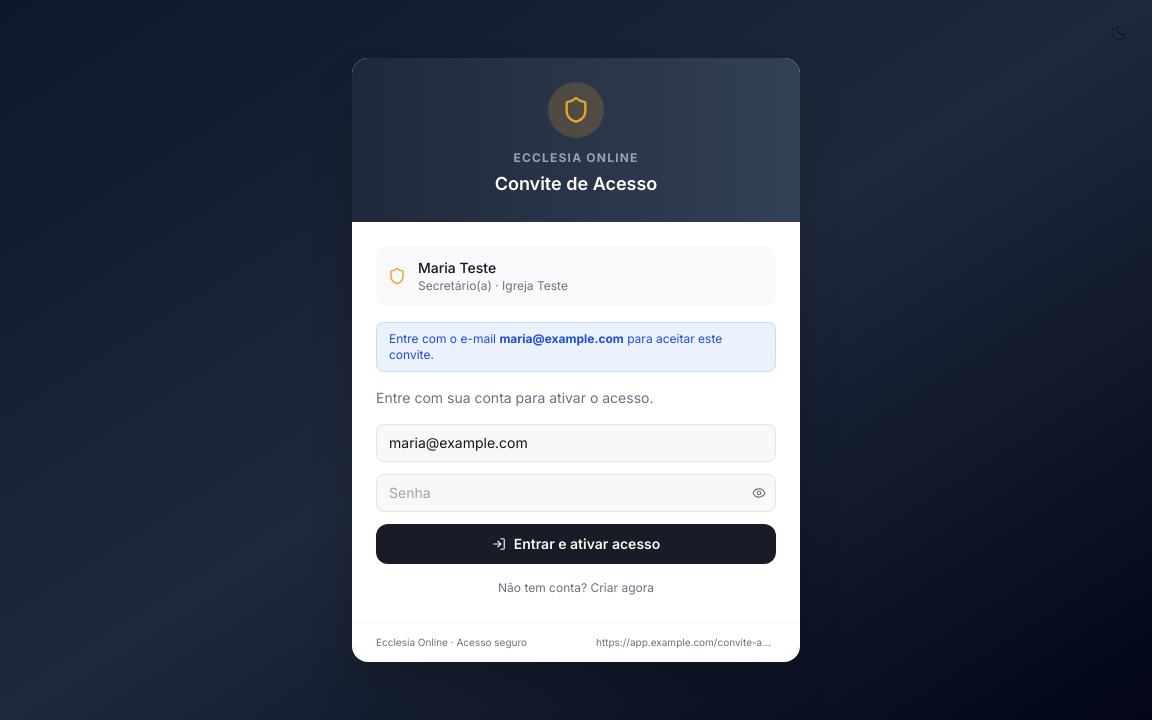
Scenario: ConviteAcesso — mailbox proof › sends a magic link to the fixed invite e-mail and never accepts before the click
This screenshot has width=1152, height=720.
Expected: the text "Maria Teste" is shown, [418,259,496,276]
Click the button "Não tem conta? Criar agora".
click(576, 588)  # box [376,580,776,596]
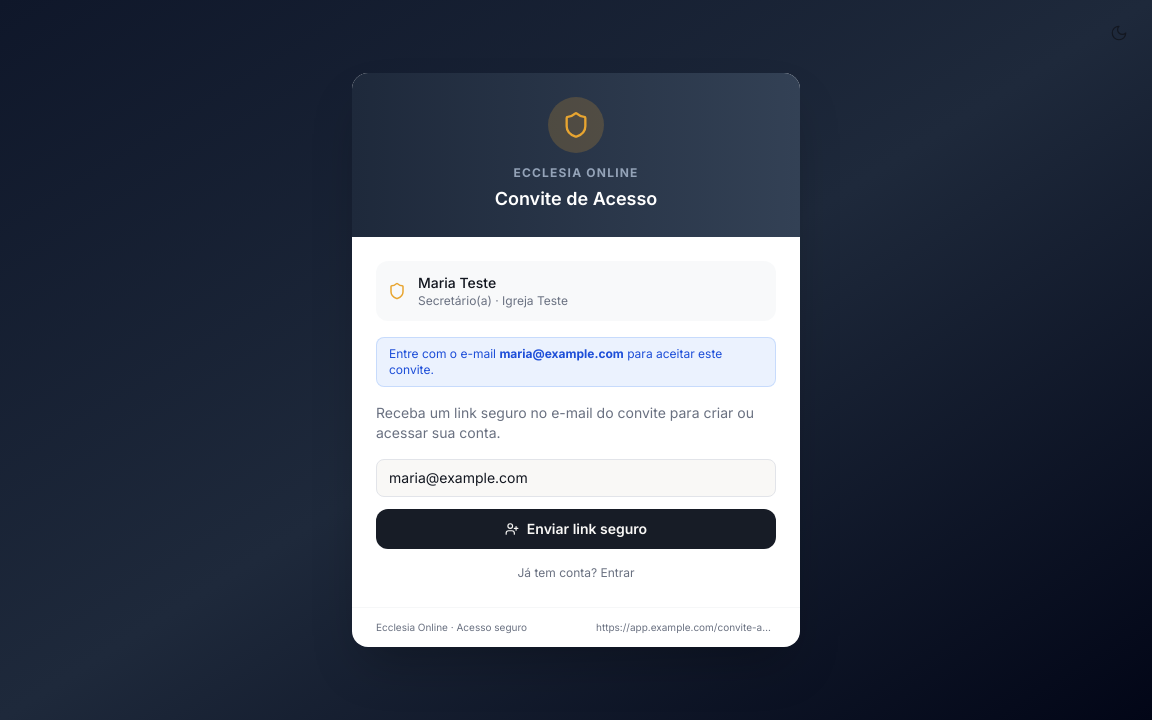
Click the button "Enviar link seguro".
click(576, 529)  # box [376,509,776,549]
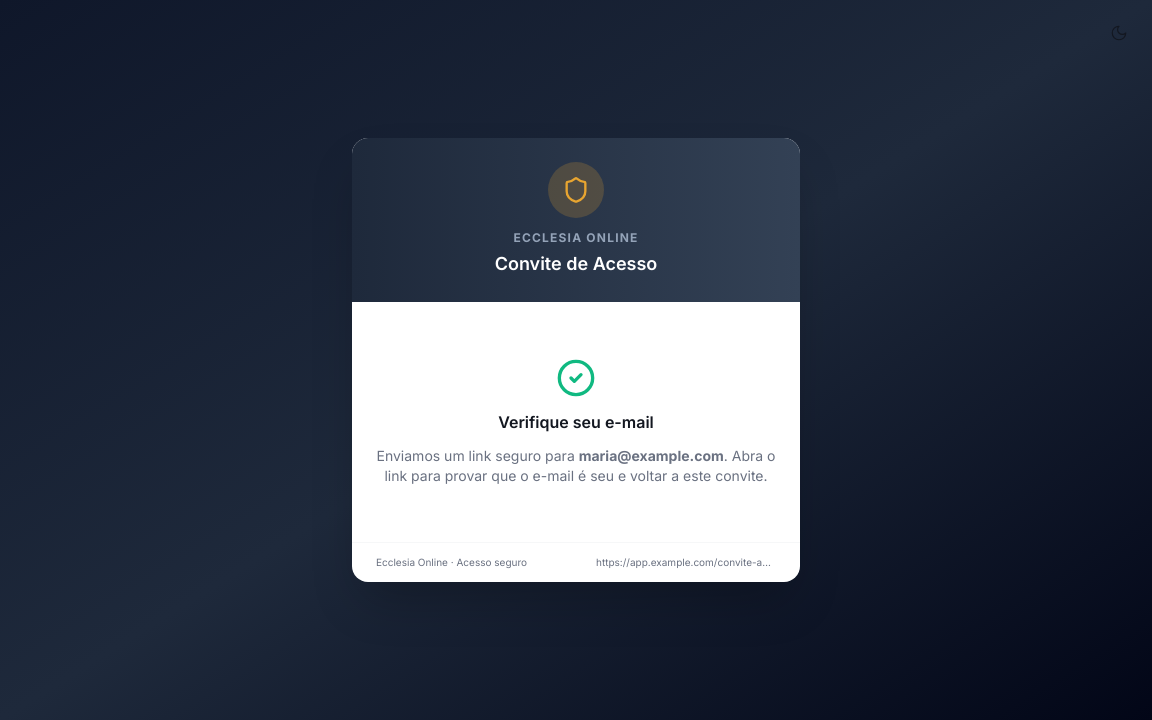
Expected: the text "Verifique seu e-mail" is shown, [498,410,654,434]
